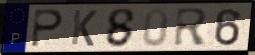0: (141, 7, 171, 49)
6: (214, 7, 244, 47)
8: (105, 7, 137, 49)
K: (69, 9, 99, 48)
P: (29, 8, 66, 50)
R: (172, 6, 210, 48)
